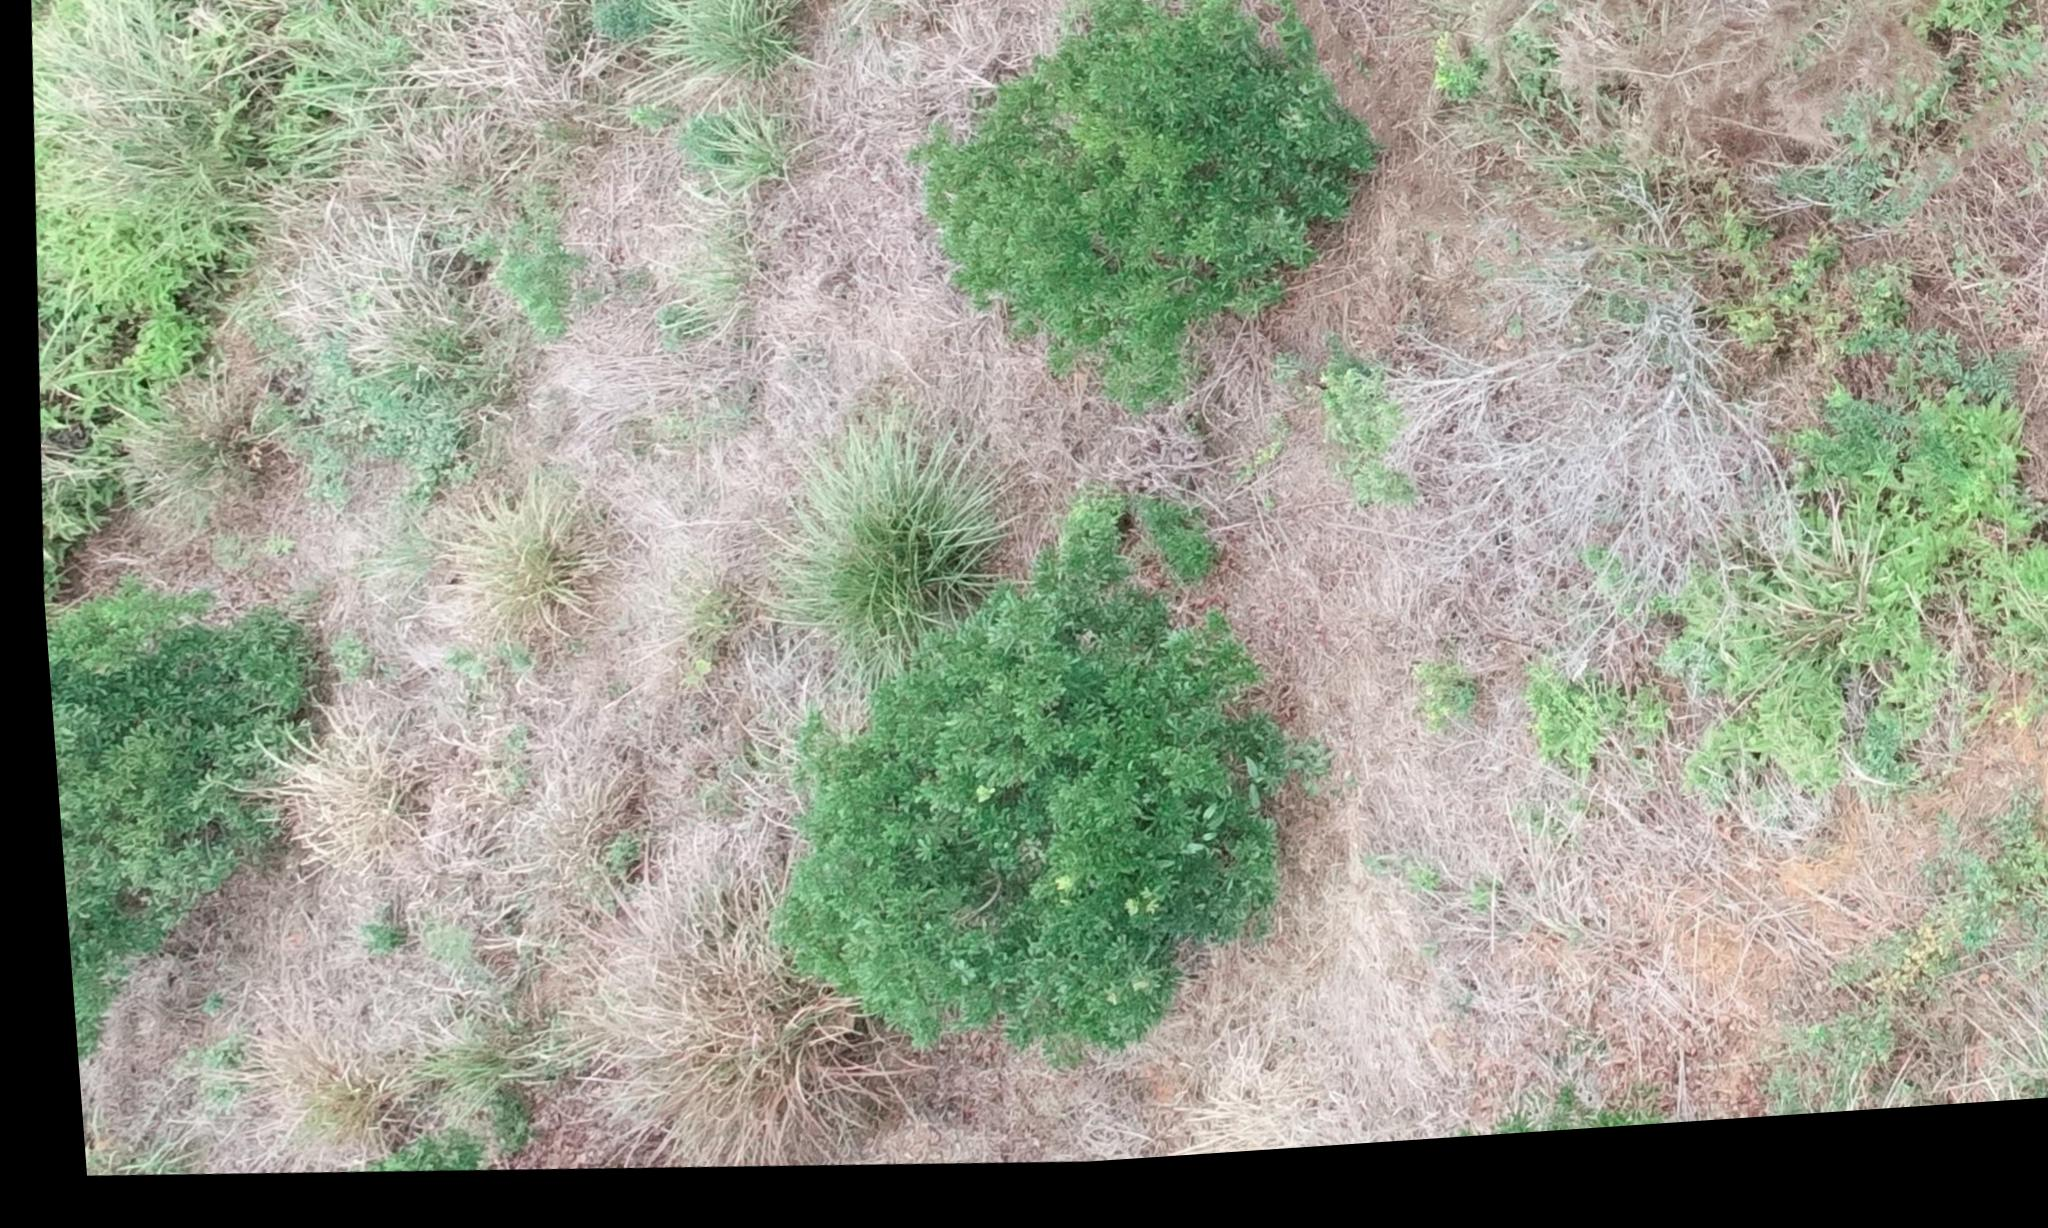dead: (1355, 294, 1814, 719)
